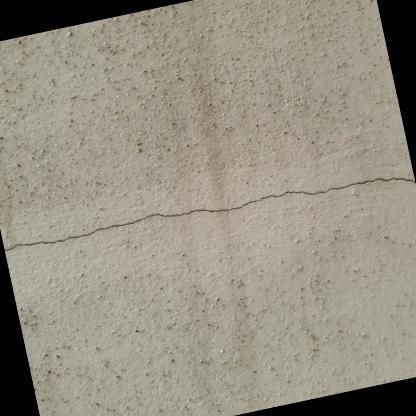crack: (4, 175, 415, 250)
